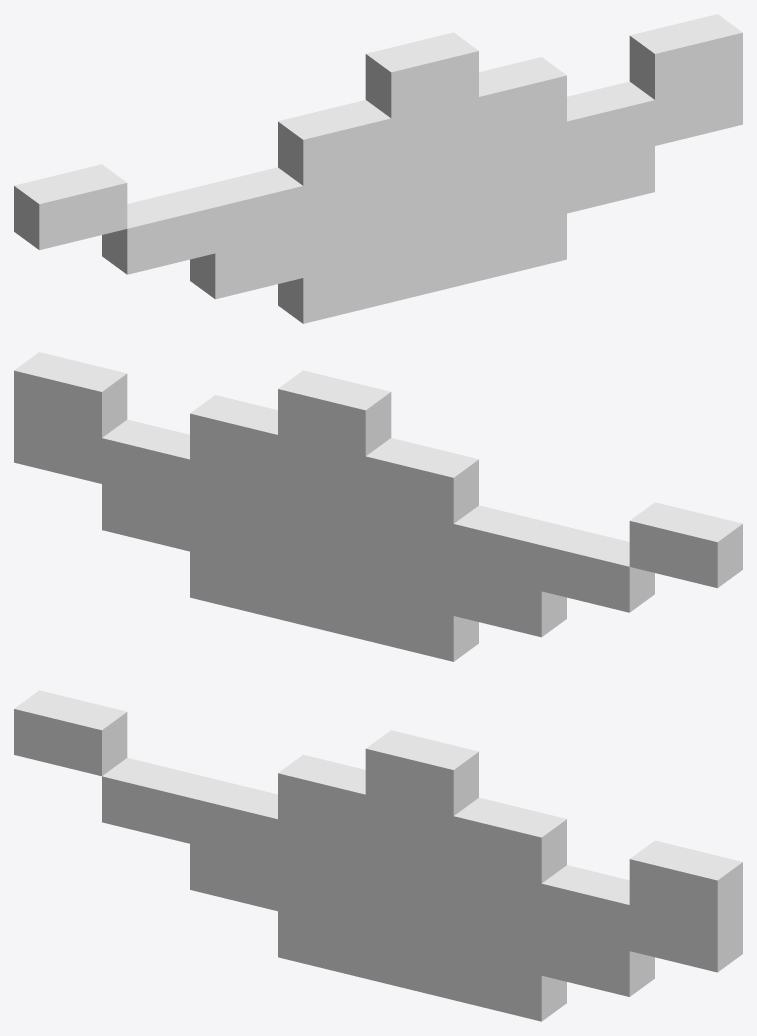
File: Lamp-White.vox.obj
3 renders of one model, top to bottom at view 1: azimuth 30°, elevation 25°; view 2: azimuth 150°, elevation 25°; view 3: azimuth 330°, elevation 25°, orthographic.
Size of the model in its own units: 1.6 by 0.5 by 0.1.
Materials: 1 (1 with a texture image).
